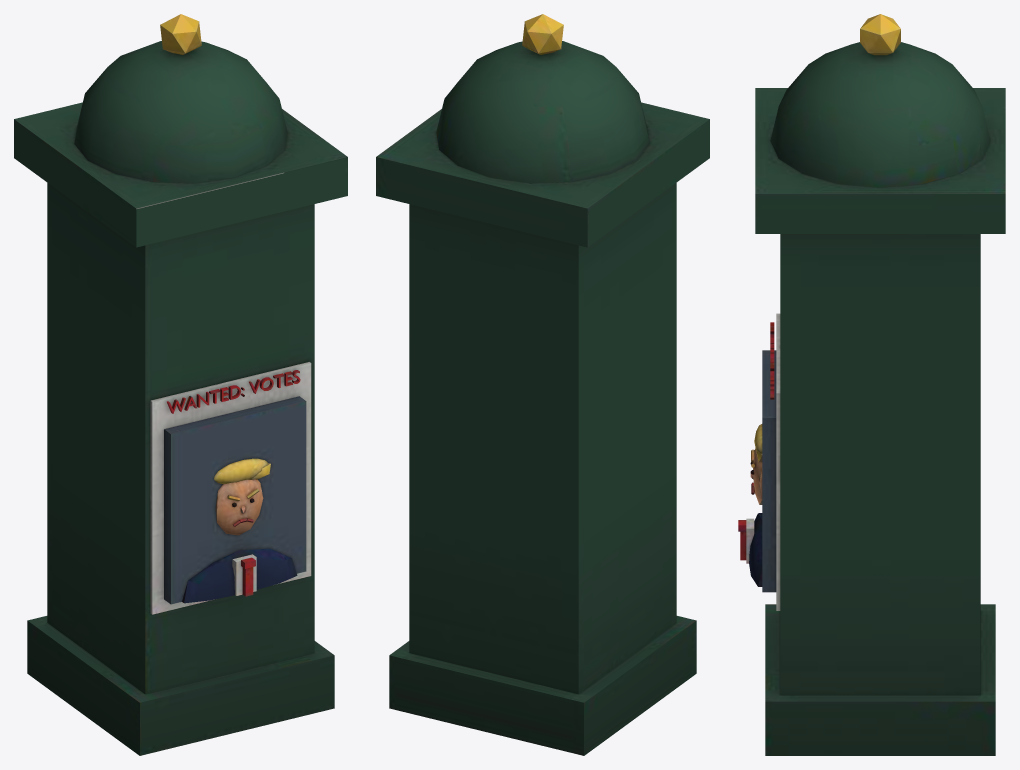
File: ficha_poster.glb
The picture shows the model from 3 angles, left to right: view 1: azimuth 30°, elevation 25°; view 2: azimuth 150°, elevation 25°; view 3: azimuth 270°, elevation 25°; orthographic projection. The views are drawn at different scales.
Visible parts, largest first — view 1: ficha_poster; view 2: ficha_poster; view 3: ficha_poster.
Part boxes in pixels (box(x1,y1,x2,y2)): ficha_poster: box(14, 14, 347, 755); ficha_poster: box(376, 14, 709, 755); ficha_poster: box(738, 14, 1005, 755).
Size of the model in its own units: 1.25 by 3.82 by 1.33.
1 material, 1 textured.
